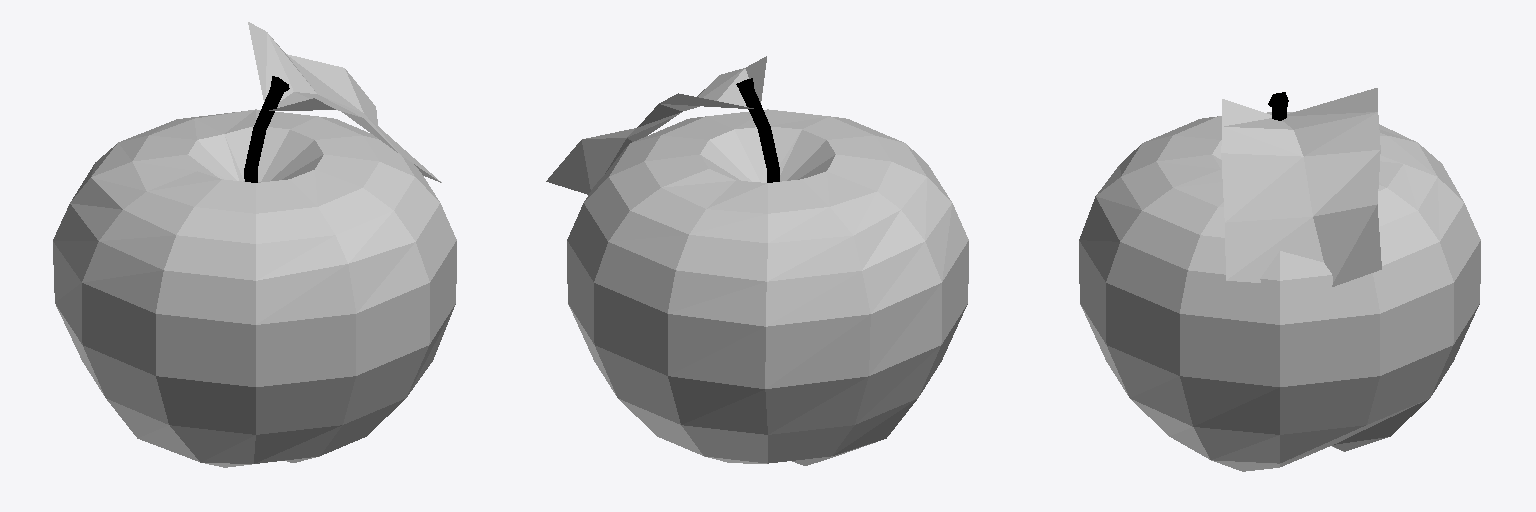
File: manzanaaaaa.obj
3 views of the same model, side by side, from view 1: azimuth 30°, elevation 25°; view 2: azimuth 150°, elevation 25°; view 3: azimuth 270°, elevation 25° (orthographic).
Visible parts, largest first — view 1: OBJ; view 2: OBJ; view 3: OBJ.
Part boxes in pixels (x1,y1,x2,y2): OBJ: (53,22,456,467); OBJ: (546,56,968,465); OBJ: (1079,88,1480,471).
Bounding box in the file's own units: 2.02 × 2.09 × 2.02.